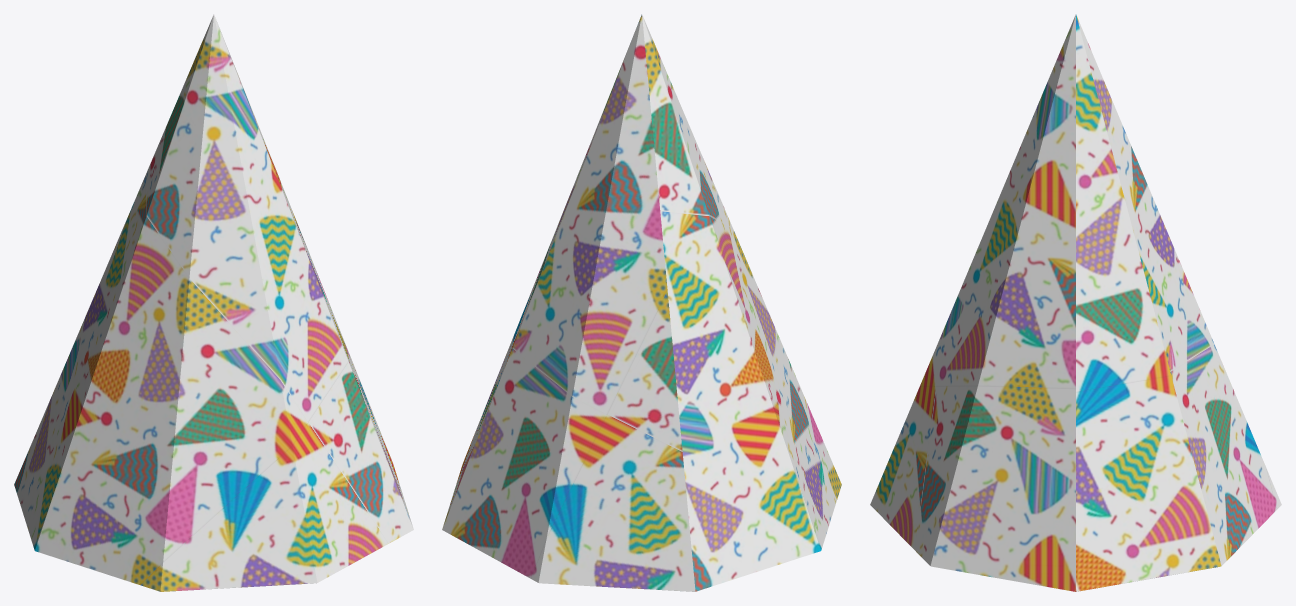
Rendered from party_hat.fbx.
3 renders of one model, left to right at view 1: azimuth 30°, elevation 25°; view 2: azimuth 150°, elevation 25°; view 3: azimuth 270°, elevation 25°, orthographic.
Visible parts, largest first — view 1: party_hat; view 2: party_hat; view 3: party_hat.
Boxes of the visible parts, bbox=[...] form: party_hat: bbox=[14, 14, 413, 591]; party_hat: bbox=[442, 14, 841, 591]; party_hat: bbox=[870, 14, 1281, 591].
Bounding box in the file's own units: 18.4 × 24.25 × 18.4.
